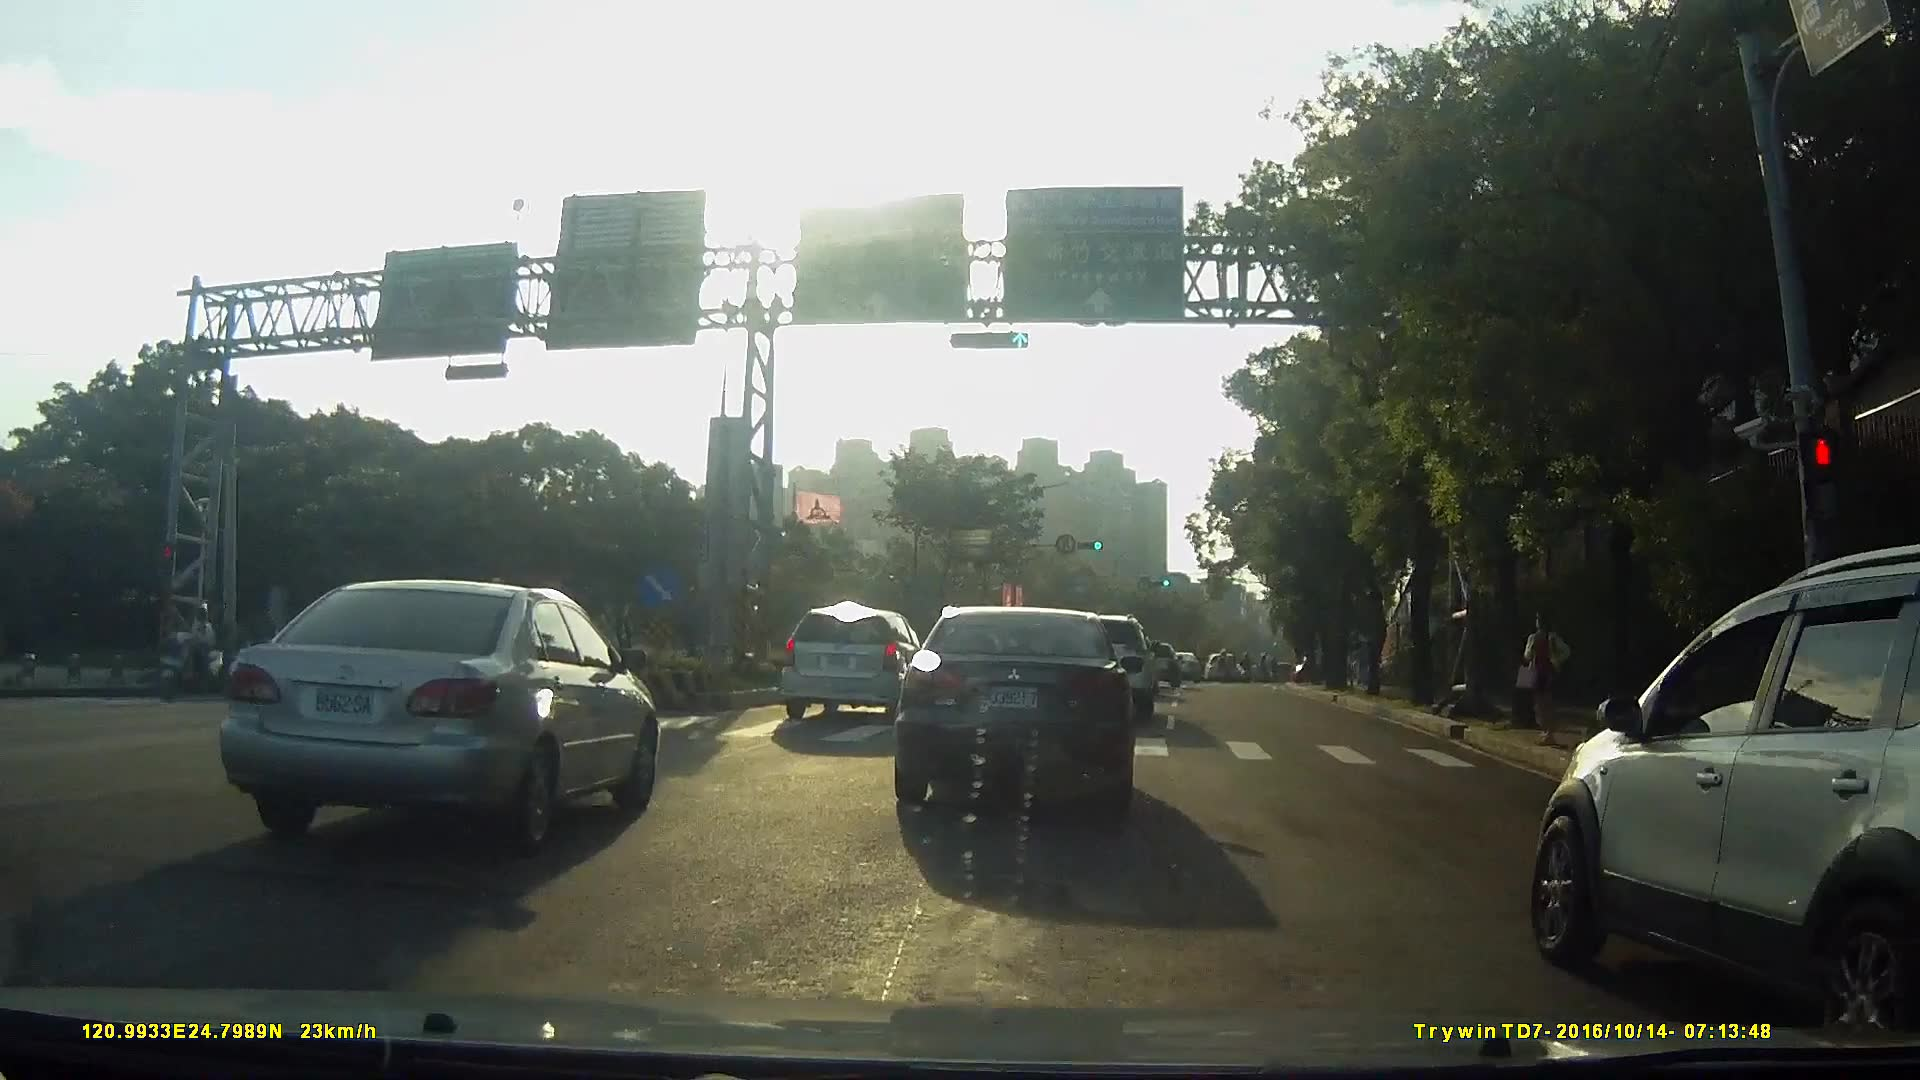pedestrian: (1514, 606, 1575, 748)
rider: (156, 601, 227, 701)
vehicle: (1488, 547, 1920, 1051), (202, 571, 679, 850), (876, 601, 1149, 815), (768, 599, 919, 719), (1124, 640, 1174, 686), (1193, 647, 1231, 678), (1159, 647, 1193, 678)
